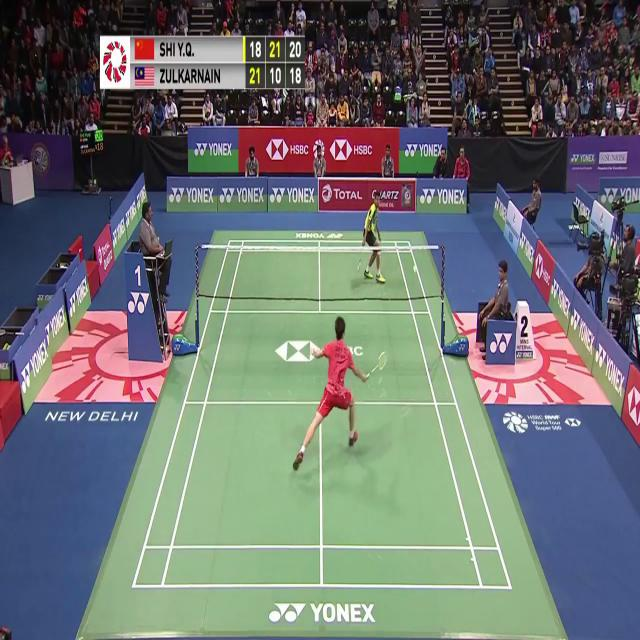Shuttlecock: (411, 262, 418, 273)
